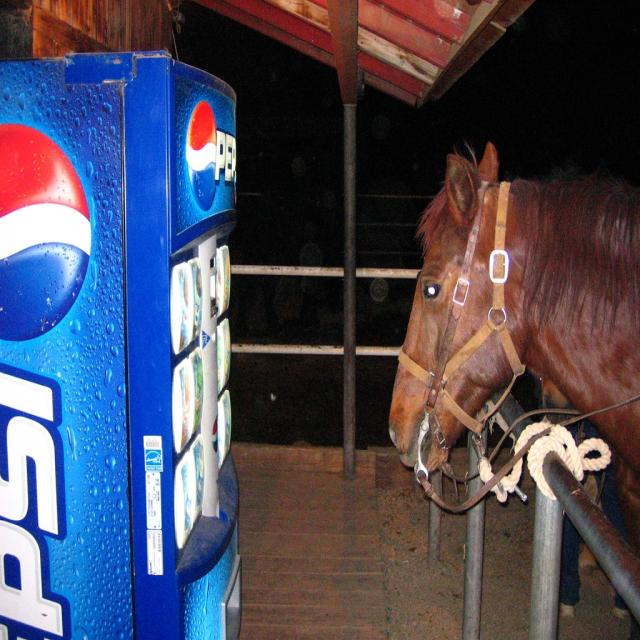pepsi: (2, 118, 99, 347), (183, 99, 218, 211)
